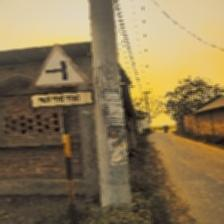Side-road-left: (29, 46, 93, 110)
